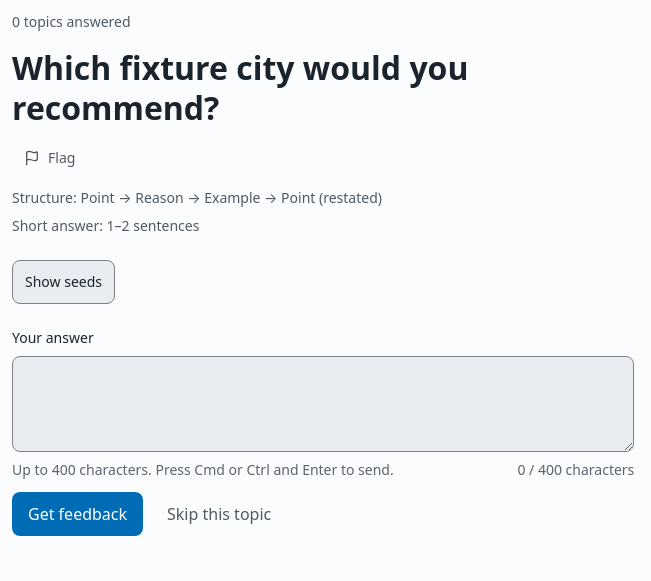
it: the drill page's client leaf › blocks a Japanese answer before it reaches the network
Step 1. Type "私は京都をおすすめします。" into the text box labelled "Your answer" → (323, 404), box [12, 356, 634, 452]
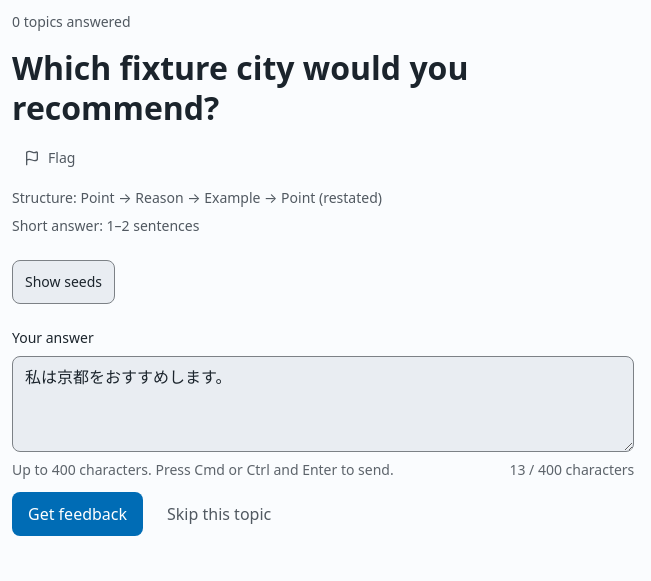
Step 2. Click the button "Get feedback" → (78, 514), box [12, 492, 143, 536]
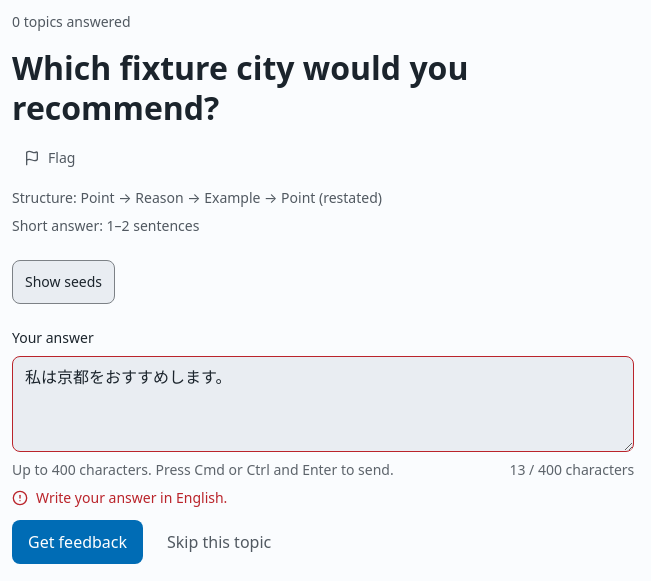
Result: the message reads "Write your answer in English." at [36, 488, 227, 507]
